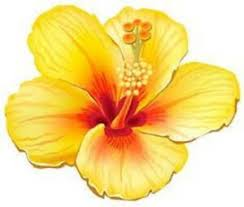hybiscus: (7, 1, 243, 202)
